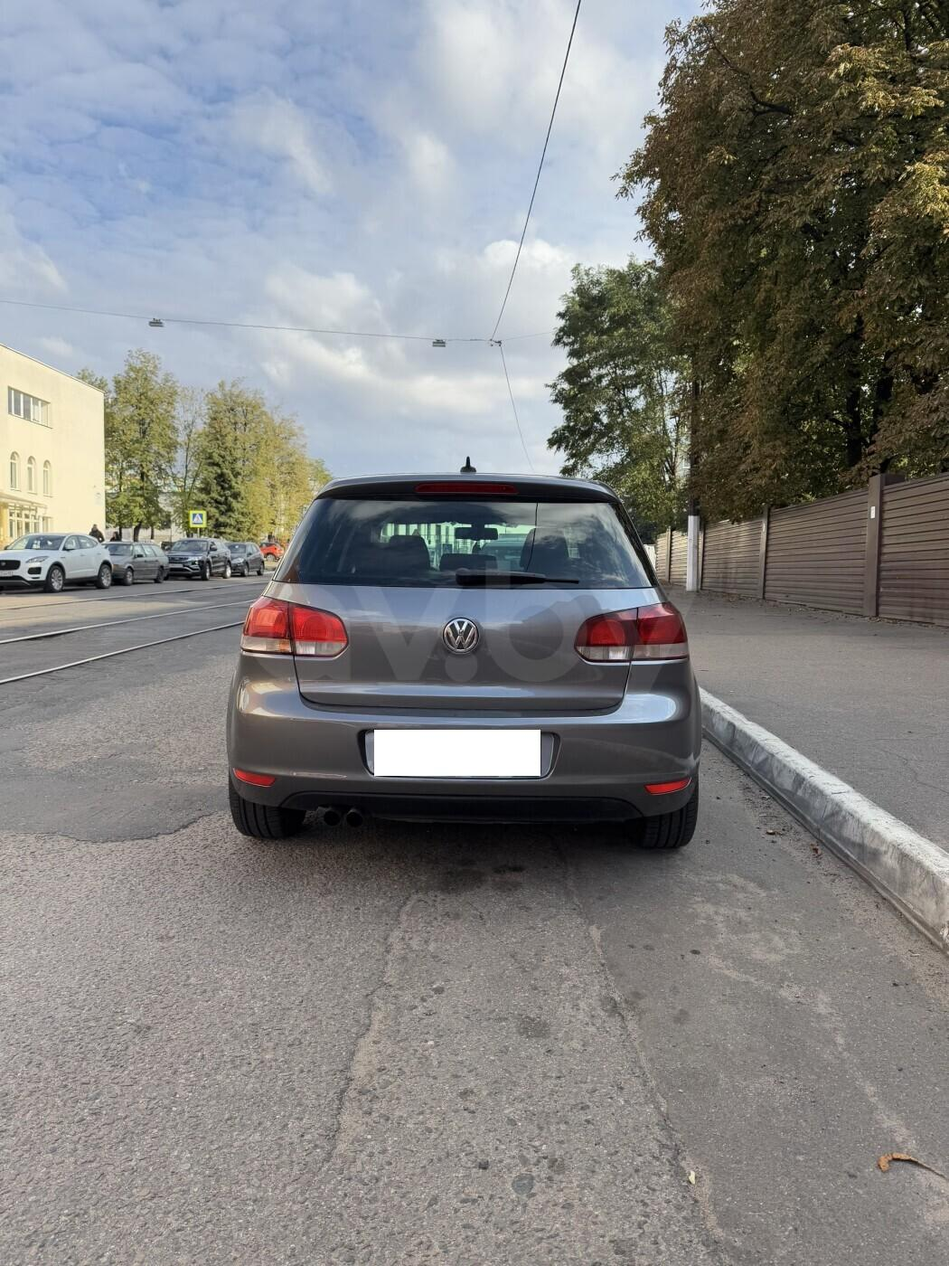Golf_2008-2013: (237, 464, 693, 863)
